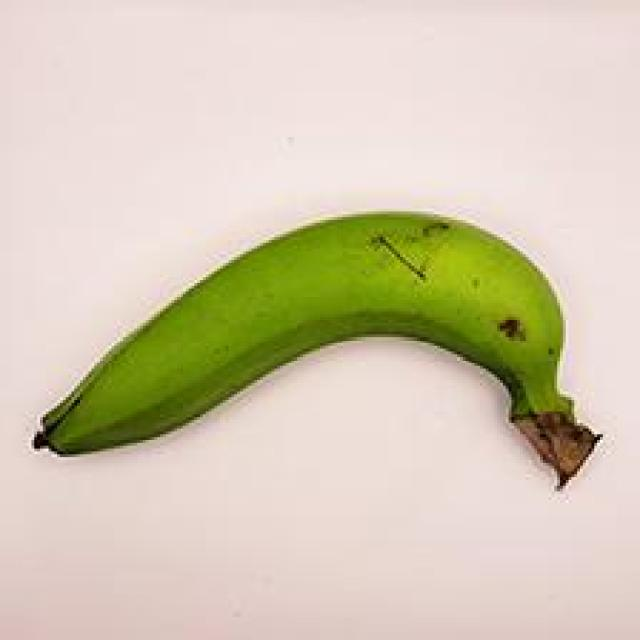Raw: (18, 194, 614, 528)
